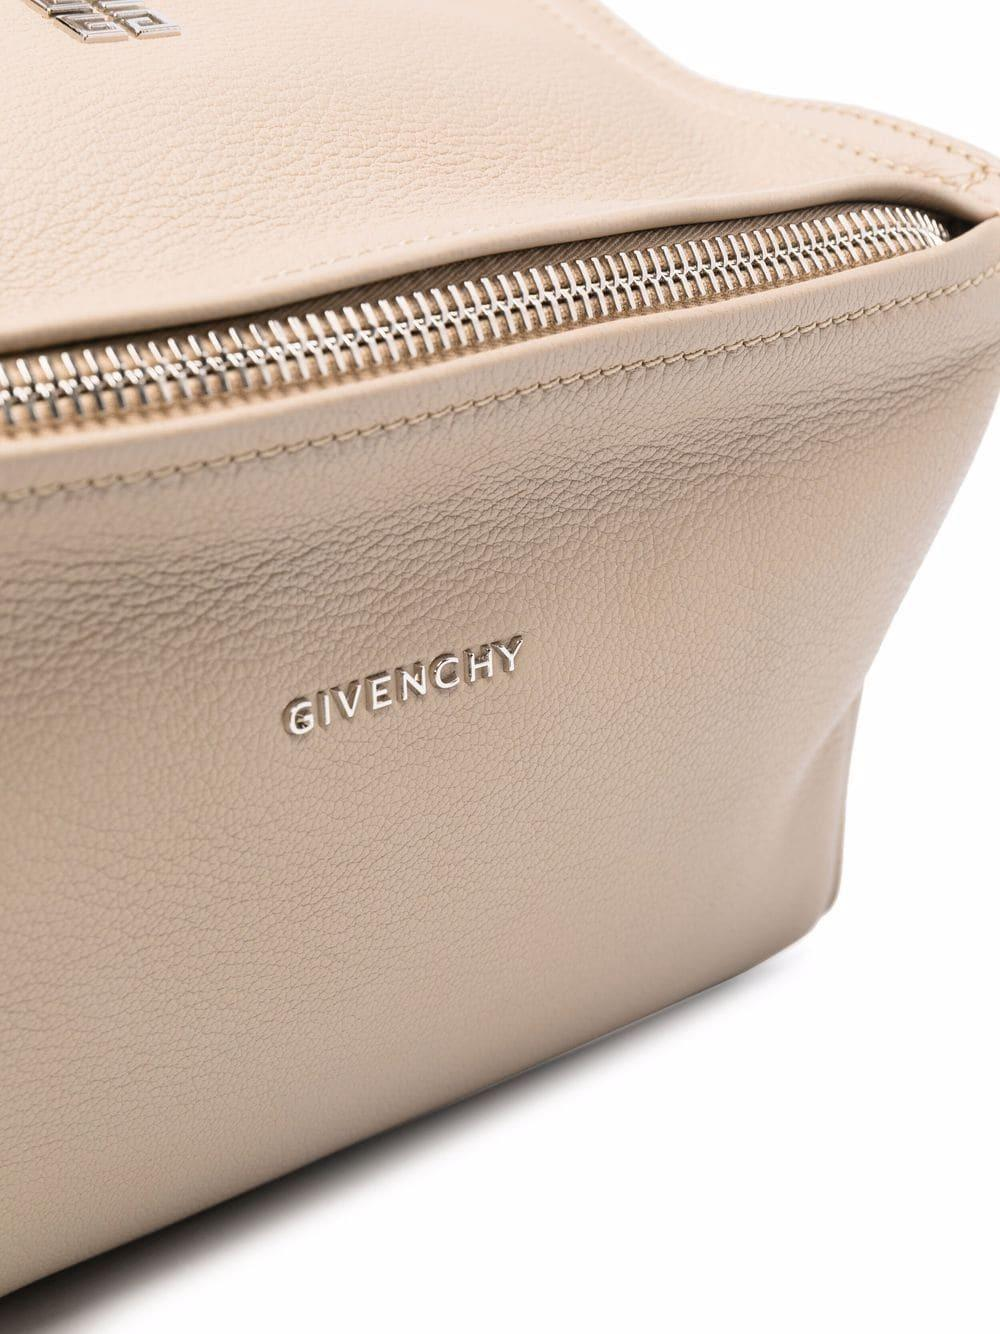GIVENCHY: (256, 617, 581, 752)
